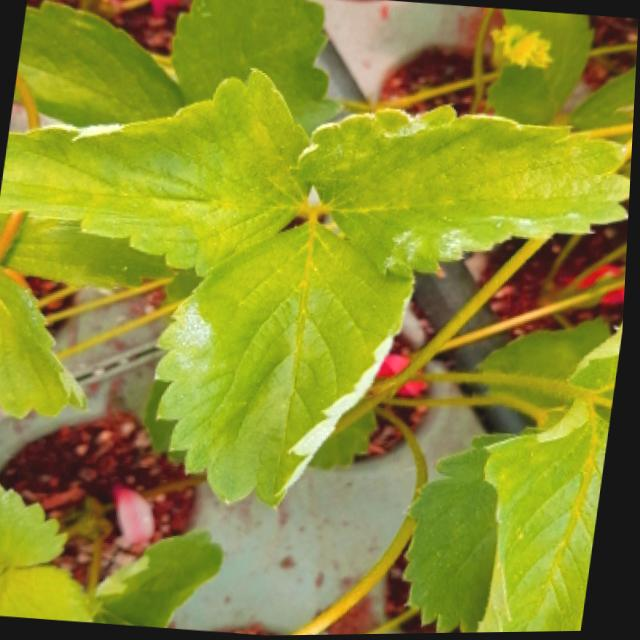Powdery Mildew Leaf: (157, 222, 417, 508), (0, 66, 312, 278), (291, 103, 632, 281)
